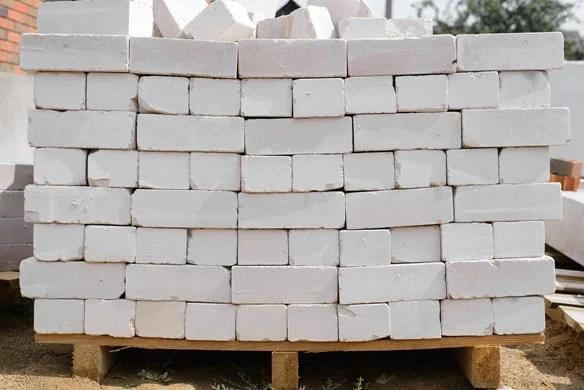Bricks: (129, 187, 238, 229), (458, 32, 567, 72), (241, 192, 348, 232), (130, 38, 239, 77), (25, 184, 130, 224), (238, 40, 347, 78), (234, 266, 337, 306), (22, 37, 128, 74), (29, 110, 132, 148), (23, 259, 123, 298), (129, 269, 232, 306), (455, 187, 562, 221), (138, 118, 244, 152), (339, 264, 445, 298), (348, 189, 453, 223), (464, 110, 569, 143), (449, 264, 557, 296), (355, 116, 463, 147), (348, 41, 458, 71), (247, 121, 352, 152), (288, 304, 338, 348), (344, 154, 398, 192), (84, 298, 138, 336), (293, 78, 344, 118), (342, 78, 398, 114), (30, 226, 86, 262), (34, 73, 84, 112), (443, 299, 493, 338), (139, 154, 193, 190), (85, 74, 138, 110), (190, 154, 240, 192), (340, 230, 390, 268), (190, 79, 241, 116), (339, 308, 394, 342), (494, 222, 548, 256), (444, 225, 495, 260), (38, 148, 86, 185), (294, 155, 342, 192), (387, 304, 438, 338), (502, 146, 550, 182), (140, 301, 184, 340), (497, 75, 550, 107), (243, 232, 290, 268), (289, 233, 340, 266), (140, 79, 188, 114), (398, 151, 446, 186), (238, 304, 286, 339), (86, 225, 134, 260), (492, 298, 540, 333), (245, 155, 290, 192), (244, 81, 294, 114), (88, 152, 136, 186), (448, 148, 497, 181), (399, 76, 446, 110), (194, 230, 240, 264), (187, 308, 234, 341), (138, 231, 186, 263), (38, 300, 84, 332), (391, 230, 440, 260), (448, 76, 495, 107)
